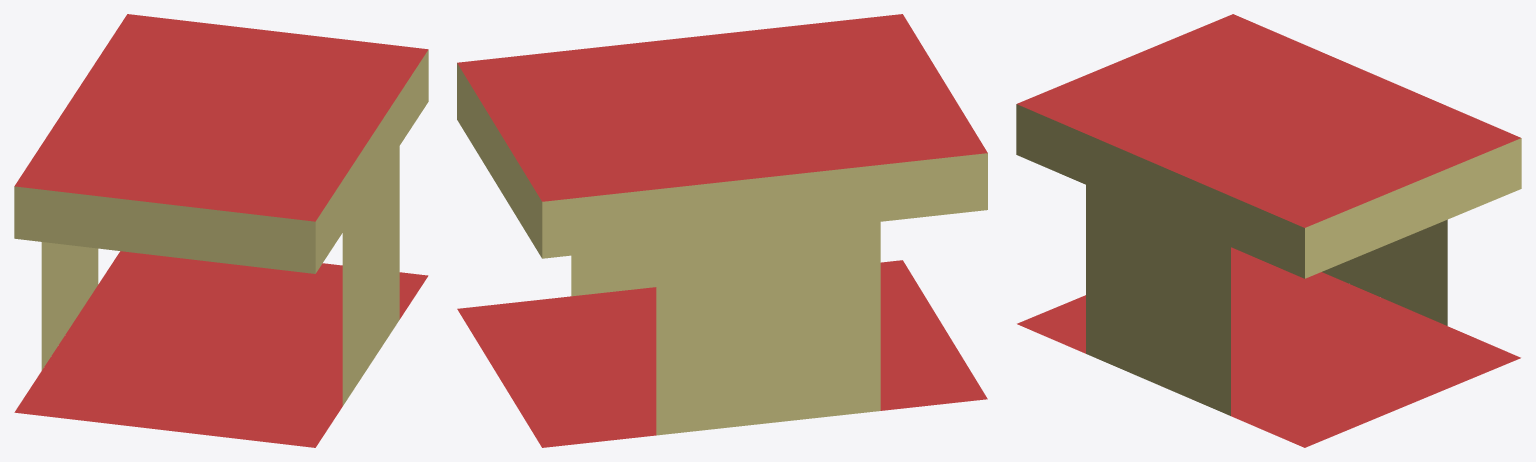
3 renders of one model, left to right at view 1: azimuth 30°, elevation 25°; view 2: azimuth 150°, elevation 25°; view 3: azimuth 270°, elevation 25°, orthographic. The views are drawn at different scales.
Parts seen in each view (by area): view 1: group_3, group_5, group_4; view 2: group_4, group_3, group_5; view 3: group_4, group_3, group_5.
Part boxes in pixels (<box>): group_3: <box>14,14,428,221</box>; group_5: <box>14,251,428,447</box>; group_4: <box>14,50,428,405</box>; group_4: <box>457,63,987,435</box>; group_3: <box>457,14,987,201</box>; group_5: <box>457,260,987,447</box>; group_4: <box>1016,104,1521,415</box>; group_3: <box>1017,14,1520,227</box>; group_5: <box>1017,247,1520,447</box>.
Bounding box in the file's own units: 24.86 × 24.79 × 11.91.
